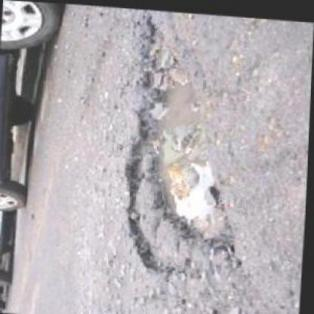Hueco: (117, 11, 260, 276)
